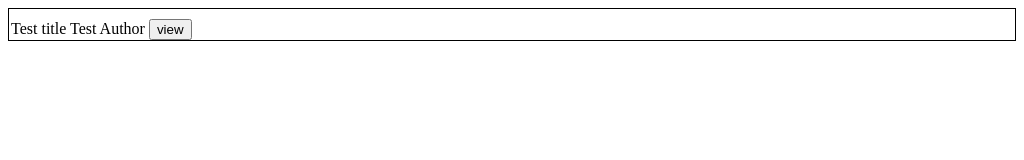
<Blog /> › renders hidden content after view button is clicked
Step 1. Click the button "view" → point(170, 30), box [149, 19, 192, 40]
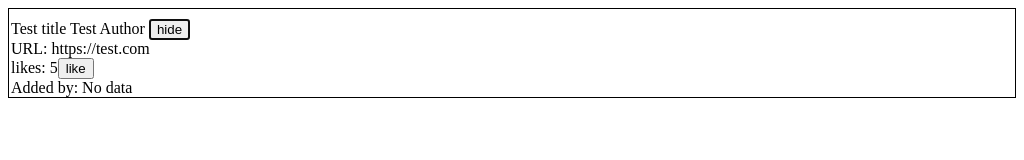
Result: the text "https://test.com" is shown at [52, 40, 150, 57]
Result: the text "5" is shown at [50, 59, 58, 76]
